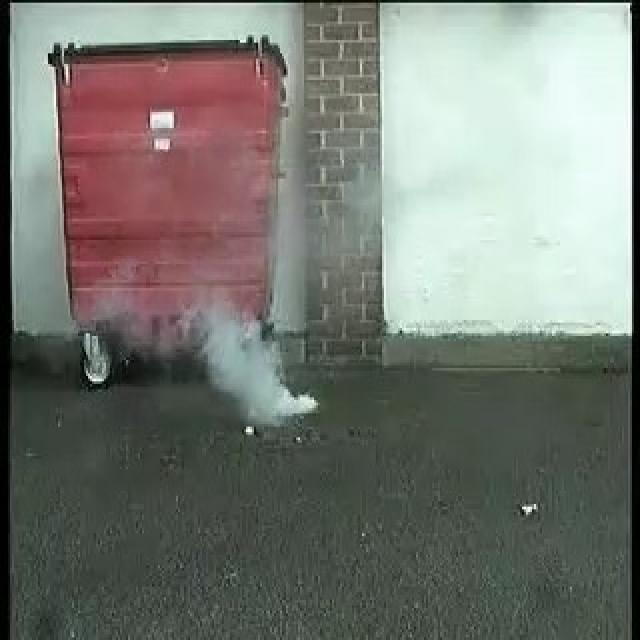smoke: (182, 303, 319, 421)
